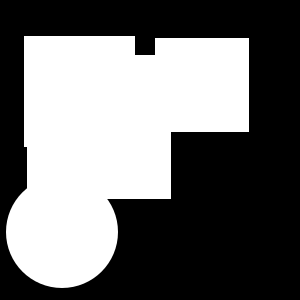circle: (27, 55, 171, 199), (24, 36, 135, 147), (155, 38, 249, 132)
rectangle: (6, 176, 118, 288), (193, 58, 224, 89)
